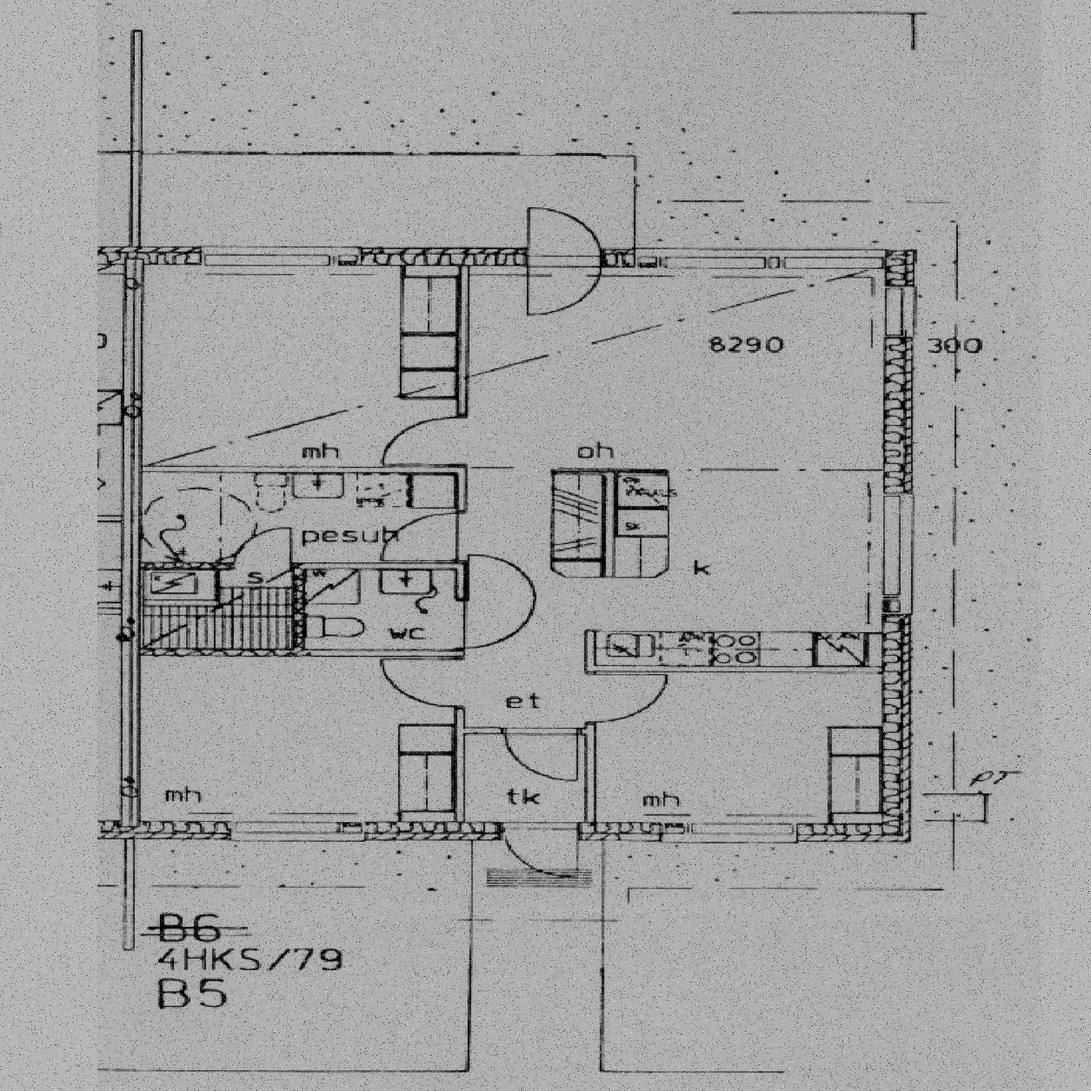wall: (885, 248, 912, 841), (122, 822, 912, 841), (122, 248, 912, 266), (122, 248, 141, 841), (455, 467, 465, 822), (141, 650, 455, 657), (131, 31, 141, 248), (585, 632, 595, 841), (455, 266, 465, 467), (141, 467, 464, 473), (141, 563, 455, 569), (585, 667, 885, 672), (604, 472, 614, 578), (465, 728, 585, 735), (295, 569, 305, 651)
